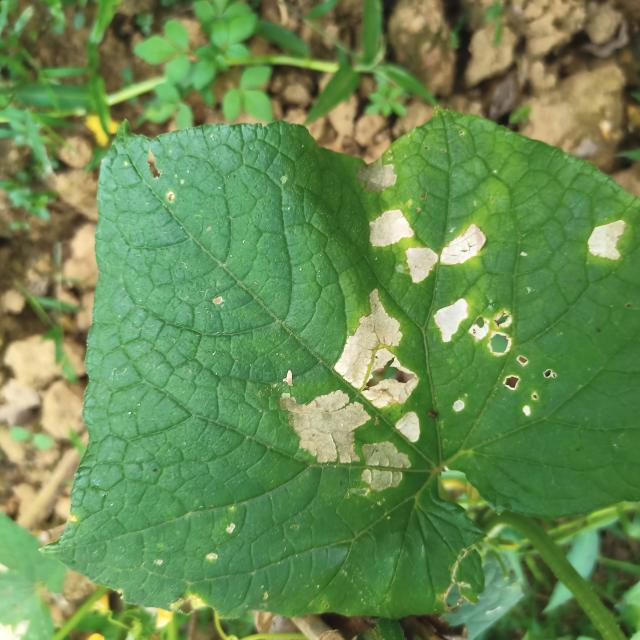disease_cucumber: (282, 284, 424, 496), (433, 290, 561, 430), (361, 204, 493, 284), (578, 214, 633, 266)
